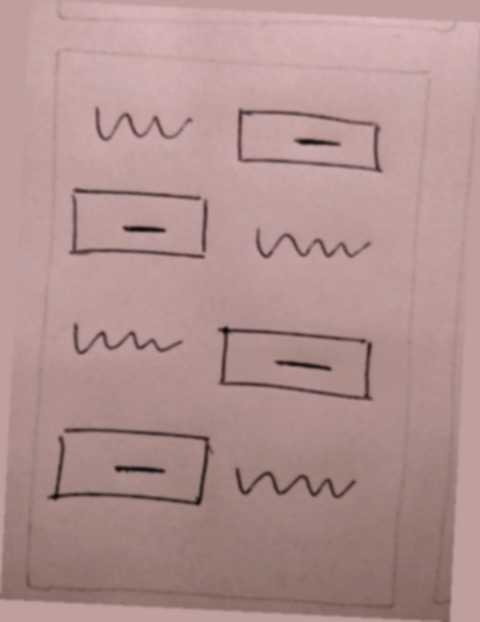button: (44, 415, 220, 512), (212, 319, 377, 404), (227, 102, 393, 182), (61, 184, 227, 264)
text: (226, 451, 359, 509), (249, 211, 376, 268), (66, 305, 187, 362), (82, 97, 195, 153)
